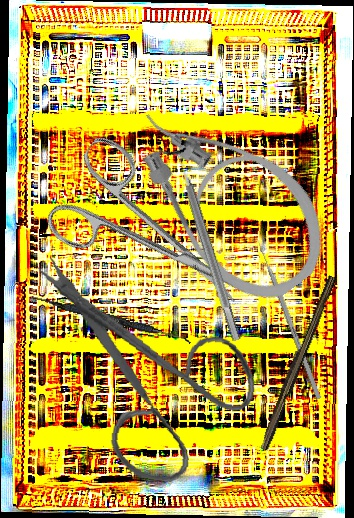Cannula: (112, 66, 348, 322)
Fixation Ring: (157, 138, 252, 346)
Iris Scissors: (5, 255, 270, 492), (34, 130, 270, 346)
Pusher: (252, 232, 323, 400)
Scalpel Handle: (256, 272, 338, 453)
Spatula Surgical: (30, 294, 193, 344)
